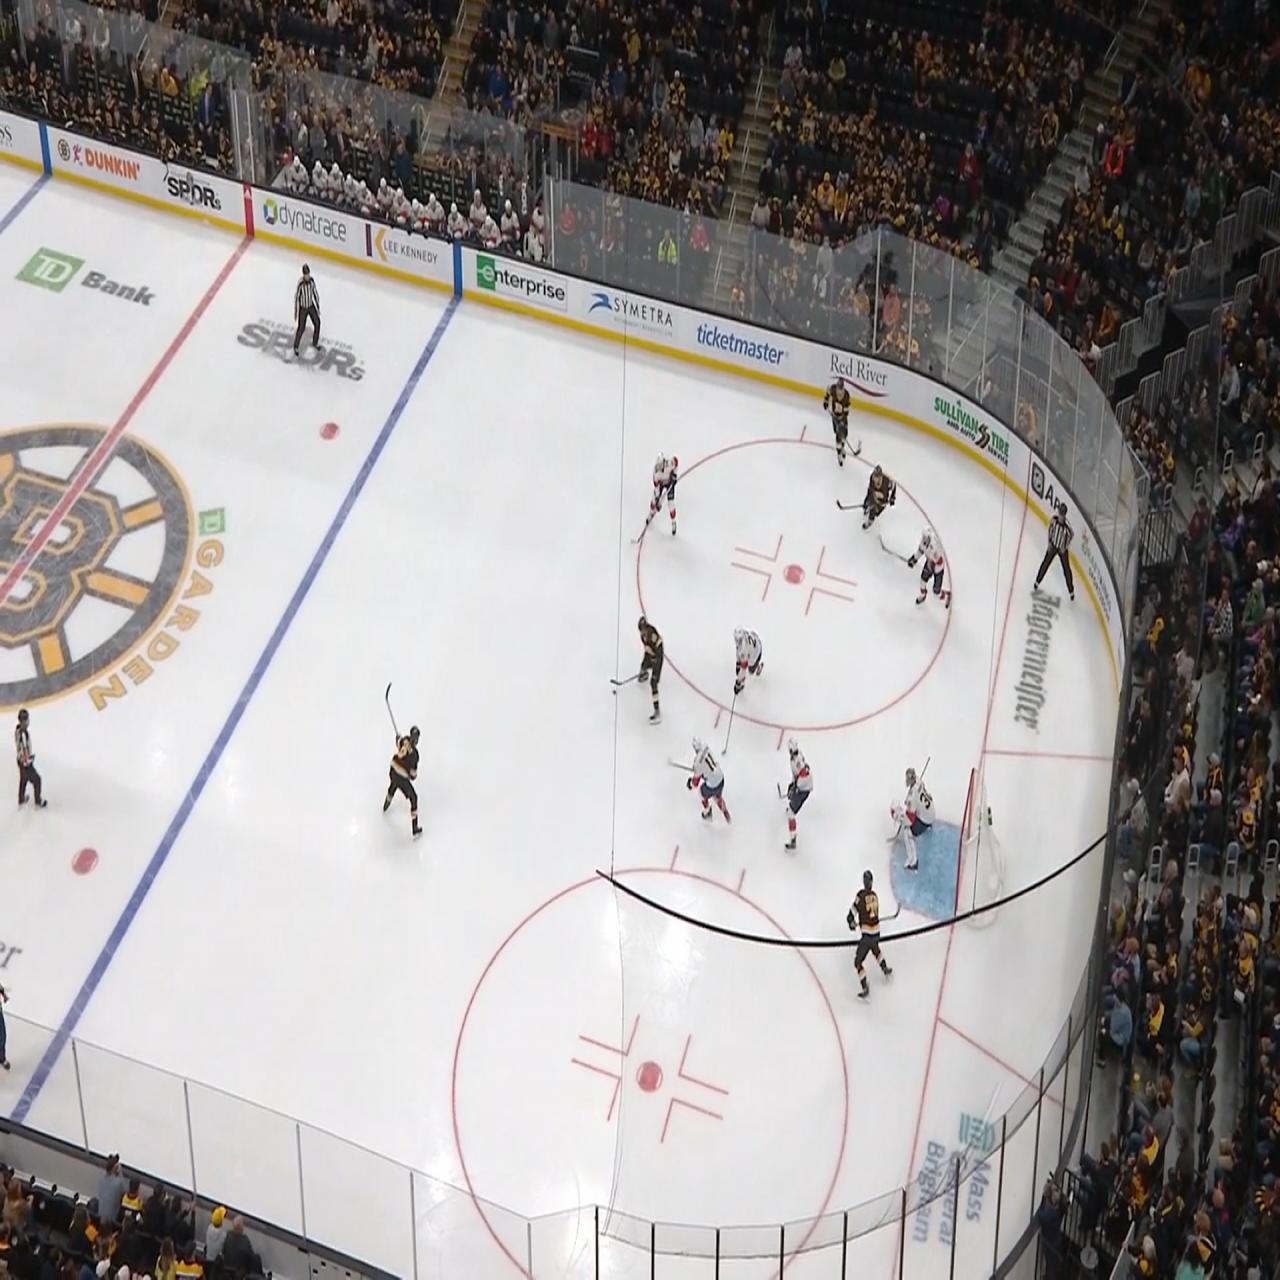Ad: (237, 312, 366, 396), (15, 246, 162, 310), (1015, 576, 1062, 734), (931, 383, 1011, 474), (694, 314, 791, 377), (477, 252, 568, 319), (588, 282, 675, 347), (263, 190, 349, 252), (362, 218, 438, 276), (74, 136, 142, 190), (1082, 517, 1112, 634), (829, 346, 888, 405), (1031, 456, 1072, 534), (164, 162, 222, 217)
